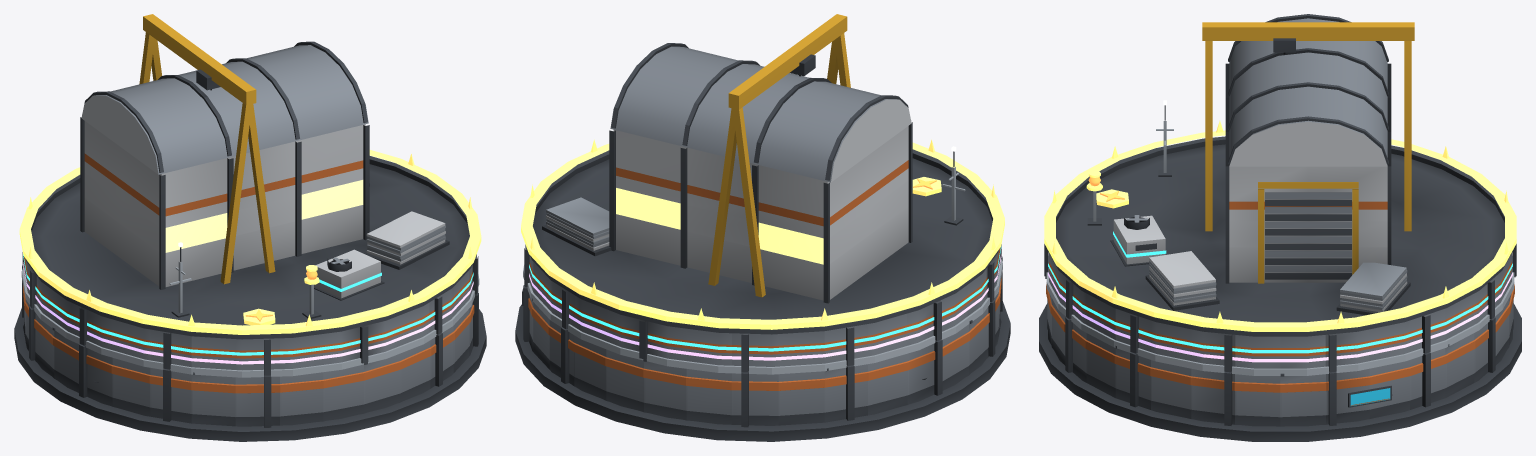
The model's file is fabricator.glb.
The picture shows the model from 3 angles, left to right: view 1: azimuth 30°, elevation 25°; view 2: azimuth 150°, elevation 25°; view 3: azimuth 270°, elevation 25°; orthographic projection. The views are drawn at different scales.
Visible parts, largest first — view 1: Roof, Base, L3, Wall_21, Wall_20, Wall_22, Wall_19, Wall_23, Wall_18, Wall_24, Wall_17, Wall_25 (+27 smaller); view 2: Roof, Base, Wall_10, Wall_11, Wall_09, Wall_12, Wall_08, Wall_13, Wall_07, Wall_14, Wall_06, Upper_10 (+27 smaller); view 3: Roof, Base, Wall_00, Wall_31, Wall_30, L3, Wall_29, Wall_01, Wall_28, Wall_03, Wall_02, Wall_04 (+26 smaller).
Part boxes in pixels (bbox=[...]): Roof: bbox=[25, 14, 472, 339]; Base: bbox=[14, 308, 486, 441]; L3: bbox=[314, 249, 384, 300]; Wall_21: bbox=[235, 375, 280, 427]; Wall_20: bbox=[191, 372, 235, 426]; Wall_22: bbox=[280, 372, 323, 425]; Wall_19: bbox=[149, 368, 191, 423]; Wall_23: bbox=[323, 364, 364, 421]; Wall_18: bbox=[111, 358, 150, 416]; Wall_24: bbox=[364, 353, 400, 413]; Wall_17: bbox=[79, 344, 112, 406]; Wall_25: bbox=[400, 340, 431, 402]; Roof: bbox=[530, 14, 998, 334]; Base: bbox=[515, 301, 1010, 441]; Wall_10: bbox=[731, 372, 778, 427]; Wall_11: bbox=[778, 371, 824, 425]; Wall_09: bbox=[686, 369, 731, 424]; Wall_12: bbox=[824, 364, 868, 422]; Wall_08: bbox=[643, 359, 686, 420]; Wall_13: bbox=[868, 353, 908, 415]; Wall_07: bbox=[605, 349, 643, 412]; Wall_14: bbox=[907, 339, 942, 404]; Wall_06: bbox=[573, 335, 606, 400]; Upper_10: bbox=[732, 333, 778, 372]; Roof: bbox=[1047, 14, 1513, 336]; Base: bbox=[1039, 303, 1521, 441]; Wall_00: bbox=[1280, 373, 1326, 426]; Wall_31: bbox=[1234, 374, 1280, 426]; Wall_30: bbox=[1190, 368, 1234, 425]; L3: bbox=[1110, 215, 1166, 266]; Wall_29: bbox=[1150, 360, 1191, 418]; Wall_01: bbox=[1326, 368, 1370, 425]; Wall_28: bbox=[1114, 346, 1150, 409]; Wall_03: bbox=[1410, 348, 1446, 409]; Wall_02: bbox=[1369, 360, 1410, 418]; Wall_04: bbox=[1445, 333, 1475, 397].
Bounding box in the file's own units: 10.73 × 7.27 × 10.73.
